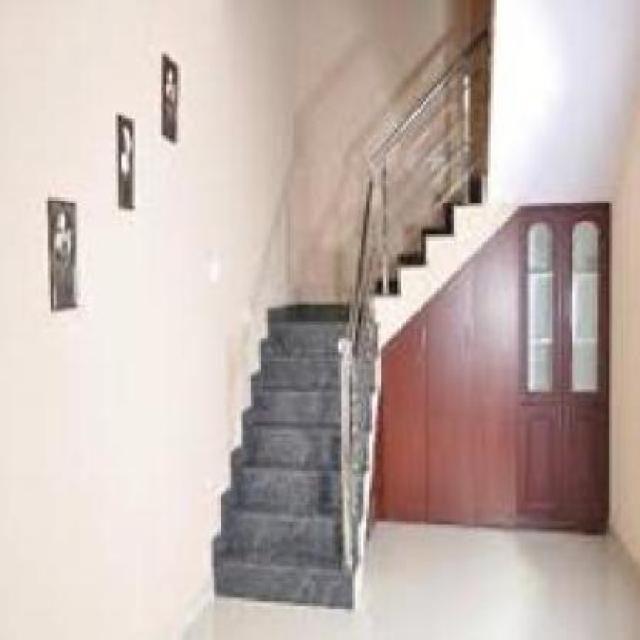stair: (209, 392, 355, 583)
